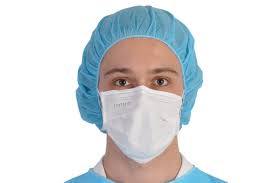with_mask_and_cap: (85, 6, 194, 164)
